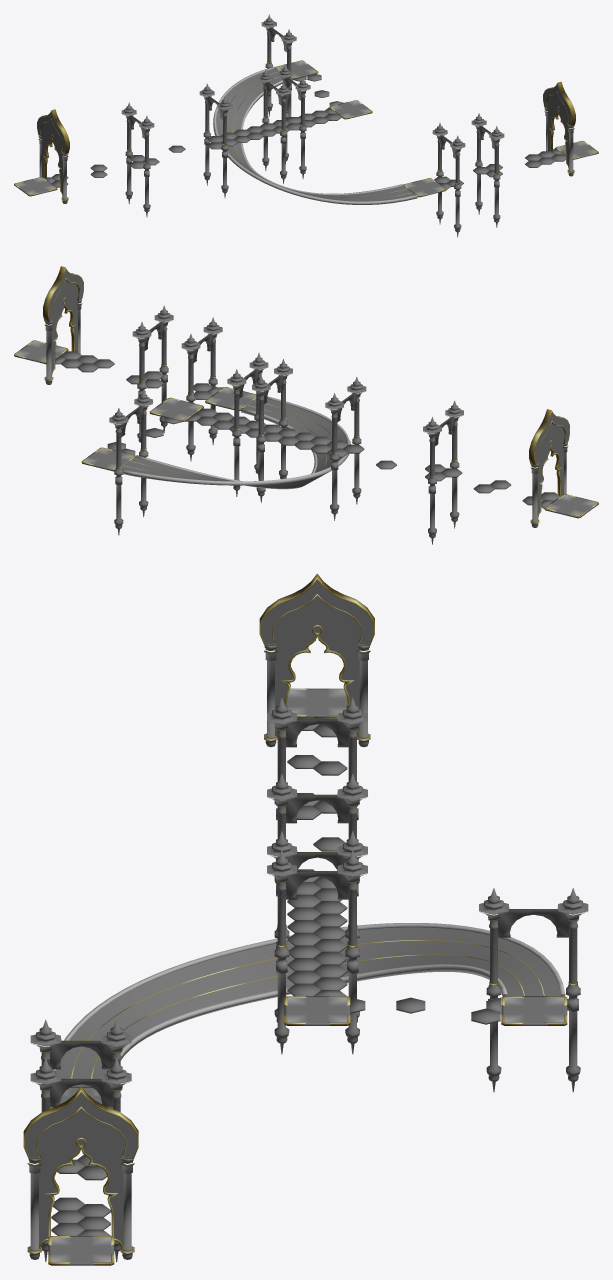
Rendered from SpaceB.gltf.
3 renders of one model, top to bottom at view 1: azimuth 30°, elevation 25°; view 2: azimuth 150°, elevation 25°; view 3: azimuth 270°, elevation 25°, orthographic. The views are drawn at different scales.
Visible parts, largest first — view 1: stg071_k21_Mesh_0012, stg071_k21_Mesh_0000, stg071_o21_Mesh_0000, stg071_k21_Mesh_0003, stg071_k21_Mesh_0031, stg071_k21_Mesh_0028, stg071_k21_Mesh_0055, stg071_k21_Mesh_0040, stg071_k21_Mesh_0009, stg071_k21_Mesh_0021, stg071_k21_Mesh_0053, stg071_k21_Mesh_0016; view 2: stg071_k21_Mesh_0012, stg071_k21_Mesh_0000, stg071_o21_Mesh_0000, stg071_k21_Mesh_0031, stg071_k21_Mesh_0003, stg071_k21_Mesh_0016, stg071_k21_Mesh_0028, stg071_k21_Mesh_0055, stg071_k21_Mesh_0040, stg071_k21_Mesh_0009, stg071_k21_Mesh_0021, stg071_k21_Mesh_0053; view 3: stg071_k21_Mesh_0012, stg071_k21_Mesh_0000, stg071_k21_Mesh_0028, stg071_k21_Mesh_0003, stg071_o21_Mesh_0000, stg071_k21_Mesh_0040, stg071_k21_Mesh_0031, stg071_k21_Mesh_0009, stg071_k21_Mesh_0021, stg071_k21_Mesh_0053, stg071_k21_Mesh_0055, stg071_k21_Mesh_0016 (+1 smaller).
Boxes of the visible parts, box(x1,y1,x2,y2) form: stg071_k21_Mesh_0012: box(38, 14, 574, 237); stg071_k21_Mesh_0000: box(43, 73, 565, 189); stg071_o21_Mesh_0000: box(14, 27, 598, 200); stg071_k21_Mesh_0003: box(20, 63, 591, 199); stg071_k21_Mesh_0031: box(18, 62, 594, 204); stg071_k21_Mesh_0028: box(216, 68, 415, 201); stg071_k21_Mesh_0055: box(16, 61, 596, 195); stg071_k21_Mesh_0040: box(129, 27, 494, 158); stg071_k21_Mesh_0009: box(37, 84, 571, 168); stg071_k21_Mesh_0021: box(41, 93, 568, 150); stg071_k21_Mesh_0053: box(42, 105, 568, 194); stg071_k21_Mesh_0016: box(127, 36, 498, 177); stg071_k21_Mesh_0012: box(45, 299, 567, 544); stg071_k21_Mesh_0000: box(55, 351, 559, 508); stg071_o21_Mesh_0000: box(14, 266, 598, 523); stg071_k21_Mesh_0031: box(20, 342, 593, 515); stg071_k21_Mesh_0003: box(22, 343, 590, 513); stg071_k21_Mesh_0016: box(116, 331, 457, 517); stg071_k21_Mesh_0028: box(121, 399, 346, 480); stg071_k21_Mesh_0055: box(16, 341, 596, 516); stg071_k21_Mesh_0040: box(121, 321, 454, 446); stg071_k21_Mesh_0009: box(48, 269, 569, 482); stg071_k21_Mesh_0021: box(52, 280, 564, 460); stg071_k21_Mesh_0053: box(51, 296, 563, 516); stg071_k21_Mesh_0012: box(28, 646, 588, 1262); stg071_k21_Mesh_0000: box(51, 716, 500, 1235); stg071_k21_Mesh_0028: box(55, 927, 560, 1078); stg071_k21_Mesh_0003: box(51, 690, 564, 1262); stg071_o21_Mesh_0000: box(23, 573, 578, 1265); stg071_k21_Mesh_0040: box(50, 719, 568, 1107); stg071_k21_Mesh_0031: box(48, 688, 567, 1265); stg071_k21_Mesh_0009: box(25, 579, 373, 1190); stg071_k21_Mesh_0021: box(37, 596, 360, 1157); stg071_k21_Mesh_0053: box(39, 622, 359, 1245); stg071_k21_Mesh_0055: box(51, 690, 564, 1262); stg071_k21_Mesh_0016: box(41, 738, 577, 1111).
Size of the model in its own units: 280 by 83.8 by 134.
